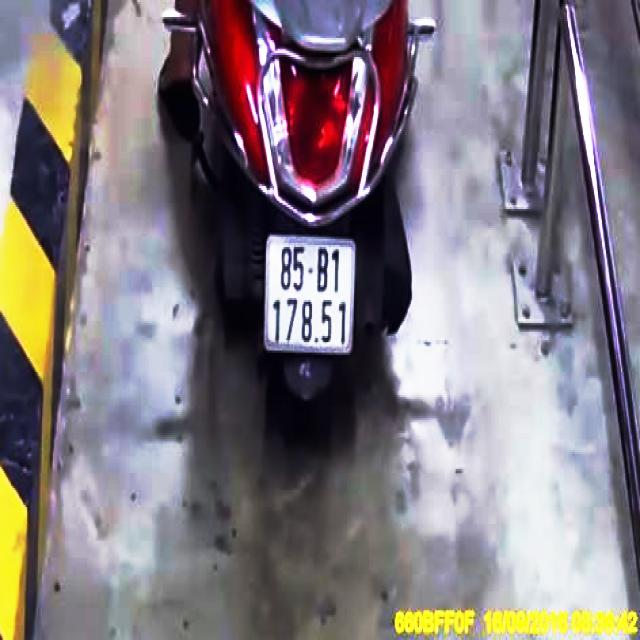license_plate: (266, 235, 355, 352)
